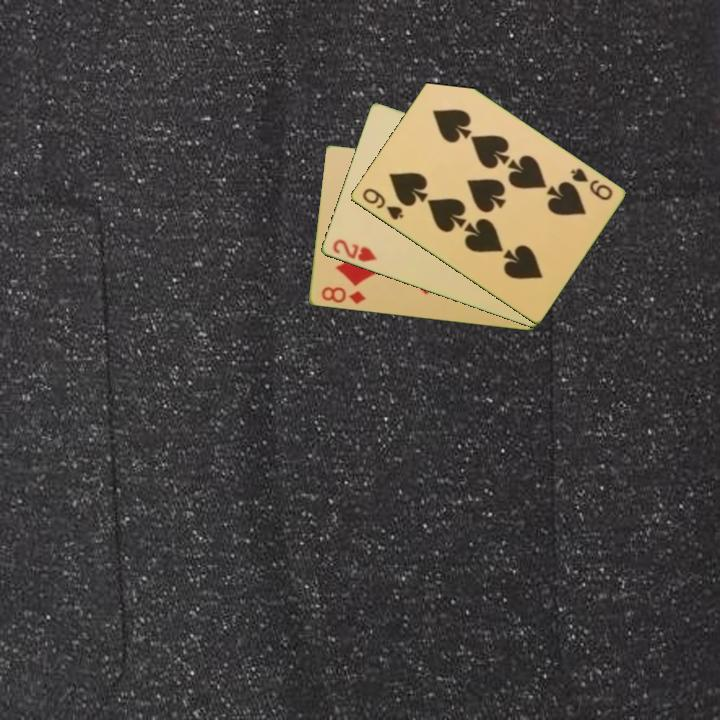2h: (329, 236, 380, 265)
8d: (317, 283, 368, 307)
9s: (567, 164, 615, 204), (358, 184, 406, 223)
